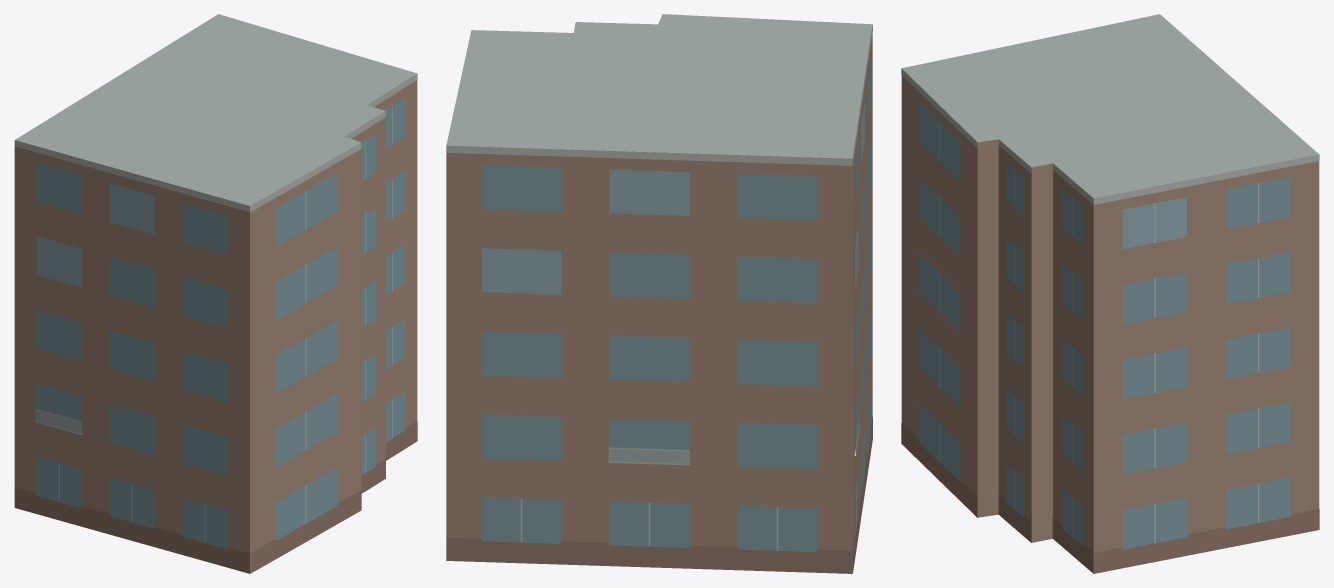
The model's file is survey-upis-32746001.glb.
3 renders of one model, left to right at view 1: azimuth 30°, elevation 25°; view 2: azimuth 150°, elevation 25°; view 3: azimuth 270°, elevation 25°, orthographic. The views are drawn at different scales.
Visible parts, largest first — view 1: survey-upis-32746001.tmp; view 2: survey-upis-32746001.tmp; view 3: survey-upis-32746001.tmp.
Part boxes in pixels (<box>): survey-upis-32746001.tmp: <box>14,14,417,573</box>; survey-upis-32746001.tmp: <box>446,14,872,573</box>; survey-upis-32746001.tmp: <box>901,14,1319,573</box>.
Size of the model in its own units: 14.97 by 14.2 by 14.34.
